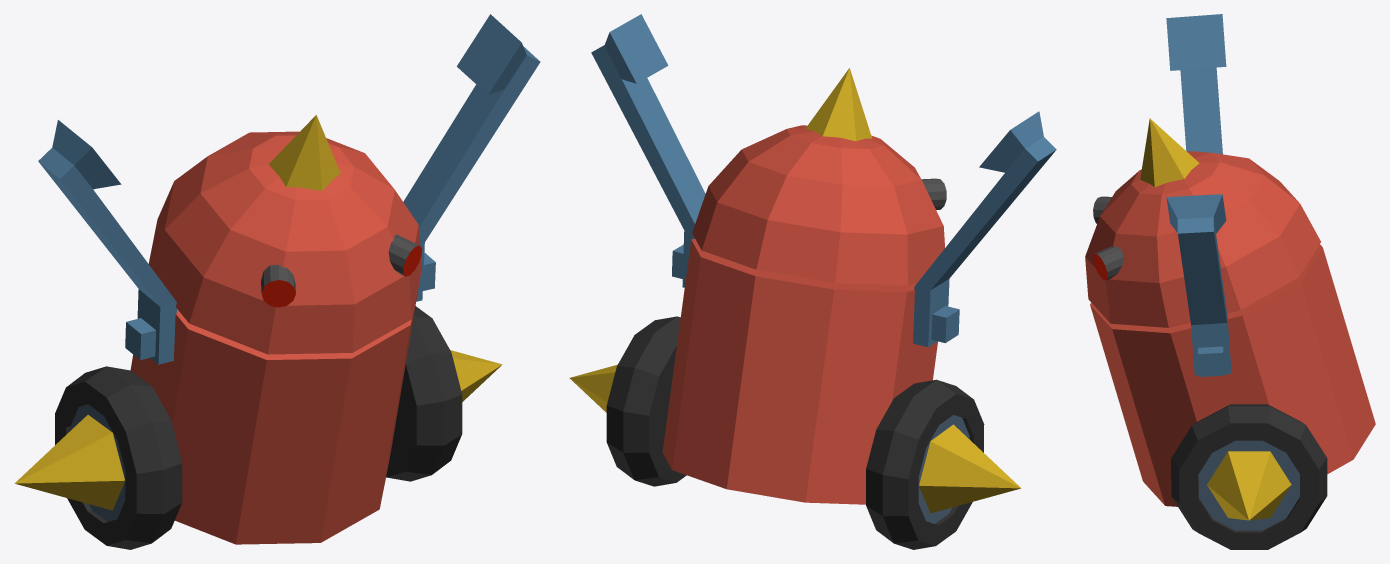
Rendered from robot_boss.fbx.
The picture shows the model from 3 angles, left to right: view 1: azimuth 30°, elevation 25°; view 2: azimuth 150°, elevation 25°; view 3: azimuth 270°, elevation 25°; orthographic projection. The views are drawn at different scales.
Parts seen in each view (by area): view 1: Body, Tire, hand, Eye; view 2: Body, Tire, hand; view 3: Body, Tire, hand, Eye.
Part boxes in pixels (x1,y1,x2,y2): Body: (130, 115, 421, 544); Tire: (14, 306, 502, 549); hand: (38, 14, 540, 364); Eye: (261, 234, 421, 307); Body: (662, 68, 944, 504); Tire: (569, 316, 1021, 549); hand: (591, 14, 1056, 346); Body: (1085, 118, 1375, 506); Tire: (1171, 404, 1327, 549); hand: (1166, 14, 1231, 376); Eye: (1093, 196, 1123, 280).
Size of the model in its own units: 598 by 529 by 361.
